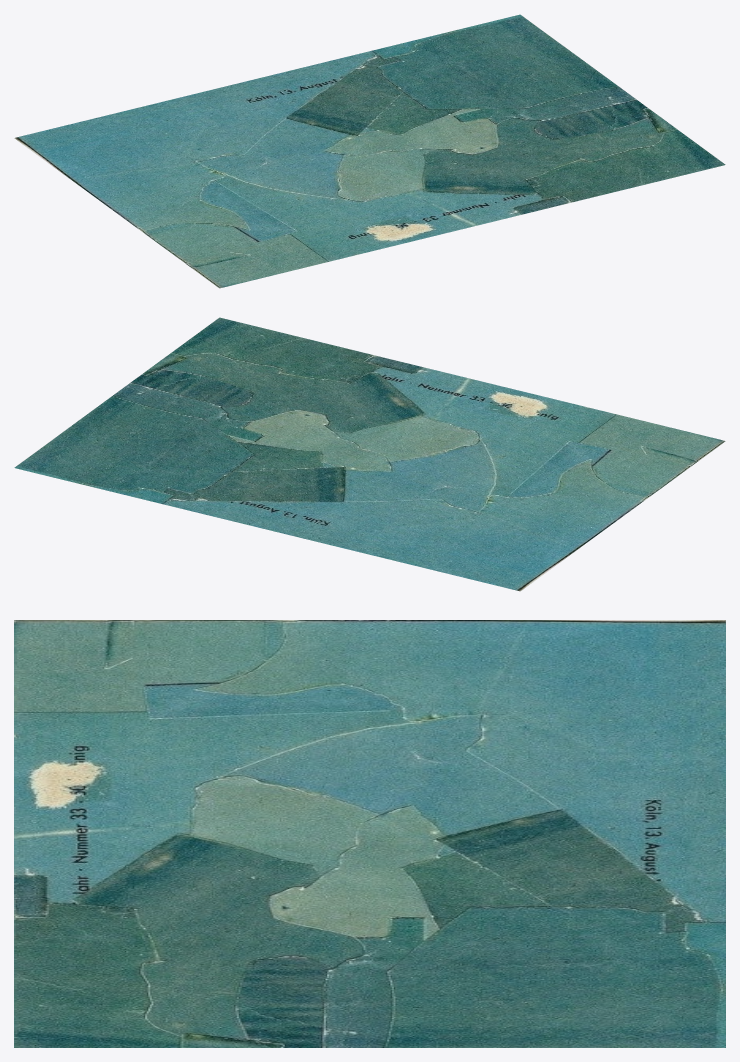
Rendered from foldMap.glb.
The picture shows the model from 3 angles, top to bottom: view 1: azimuth 30°, elevation 25°; view 2: azimuth 150°, elevation 25°; view 3: azimuth 270°, elevation 25°; orthographic projection. The views are drawn at different scales.
Visible parts, largest first — view 1: Plane; view 2: Plane; view 3: Plane.
Boxes of the visible parts, <box> form: Plane: <box>14,14,725,288</box>; Plane: <box>14,317,725,591</box>; Plane: <box>14,620,725,1047</box>.
Bounding box in the file's own units: 14.82 × 0 × 10.42.
1 material, 1 textured.
